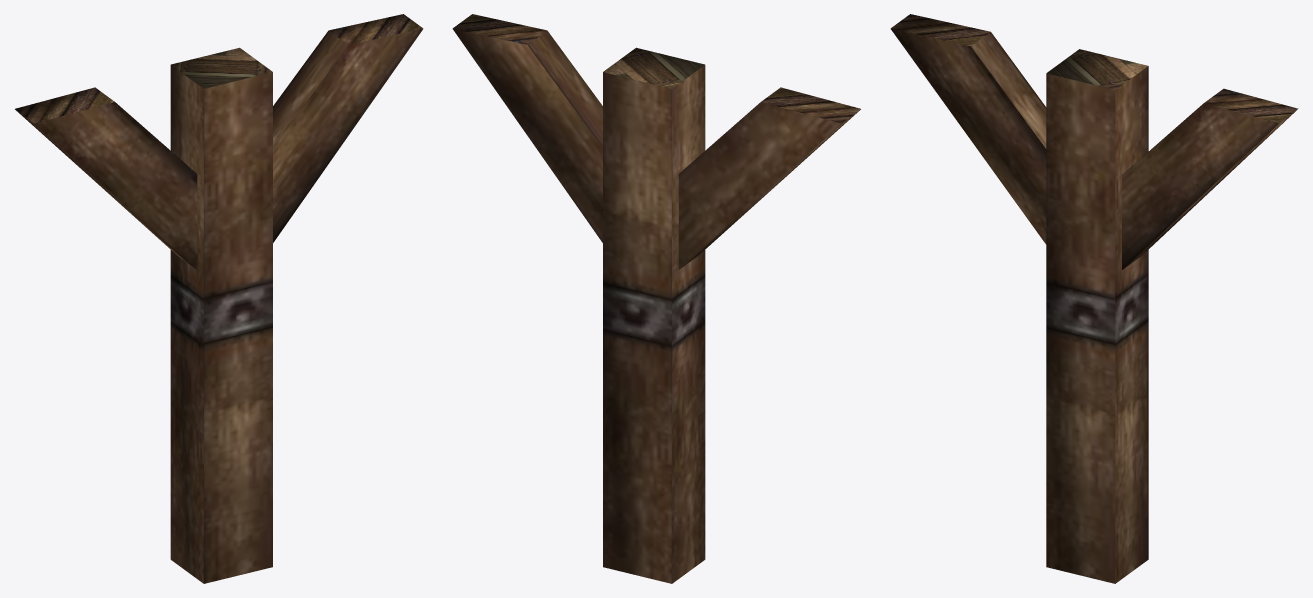
File: OC_LOB_PLANK_INDOOR.glb
3 views of the same model, side by side, from view 1: azimuth 30°, elevation 25°; view 2: azimuth 150°, elevation 25°; view 3: azimuth 330°, elevation 25° (orthographic).
Visible parts, largest first — view 1: Mesh; view 2: Mesh; view 3: Mesh.
Boxes of the visible parts, x1=… form: Mesh: x1=15, y1=14, x2=423, y2=583; Mesh: x1=452, y1=14, x2=860, y2=583; Mesh: x1=890, y1=14, x2=1298, y2=583.
Bounding box in the file's own units: 3.37 × 4.12 × 0.4999.
Materials: 1 (1 with a texture image).
